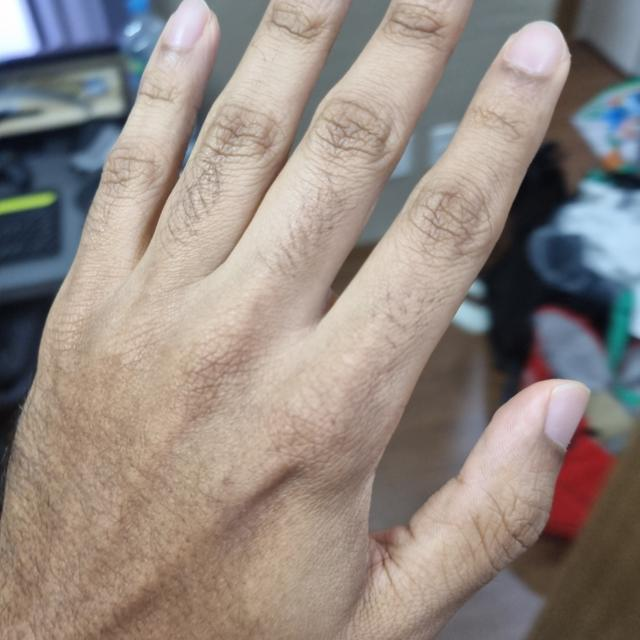Paper: (1, 0, 590, 639)
